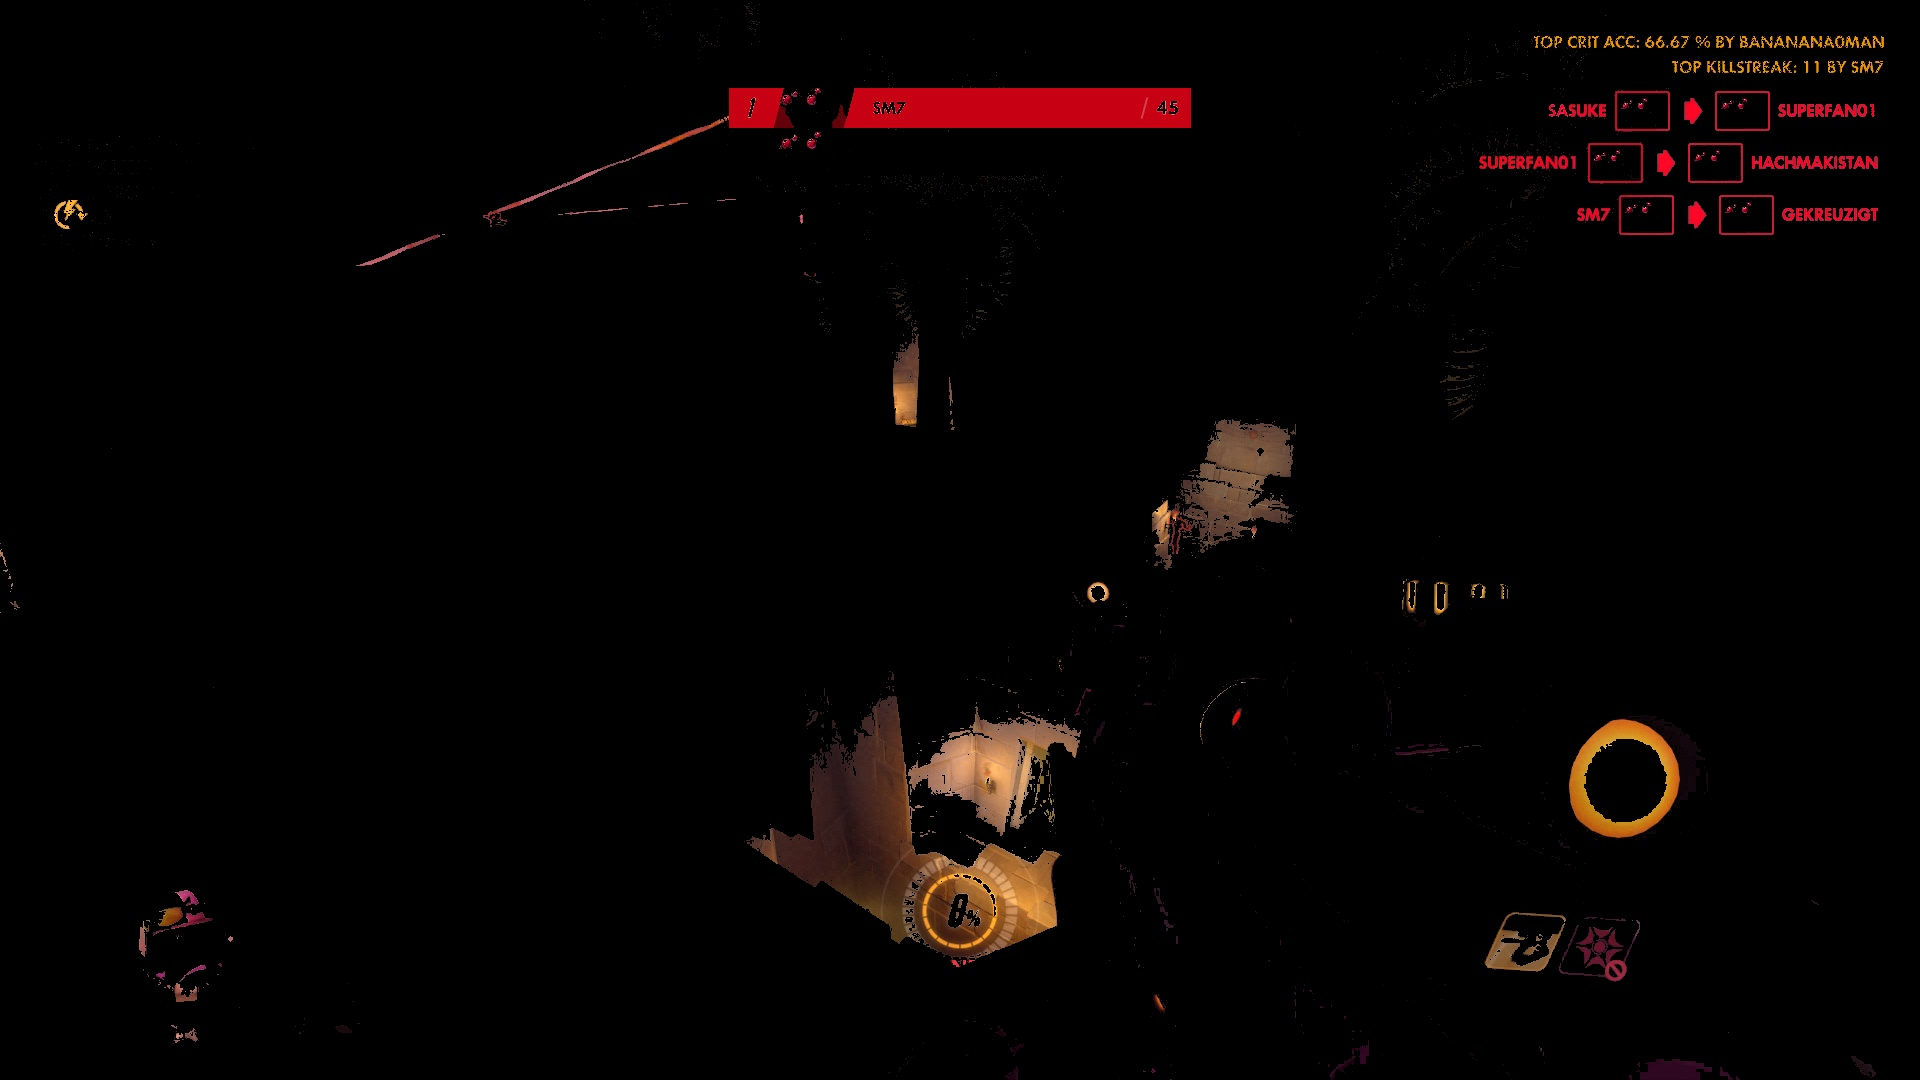widowmaker: (1167, 516, 1189, 558), (487, 211, 509, 228)
